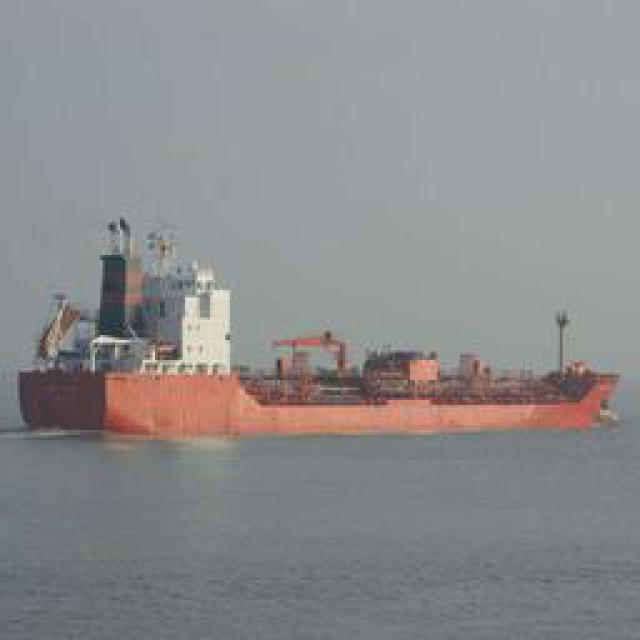Ship: (27, 356, 620, 439)
